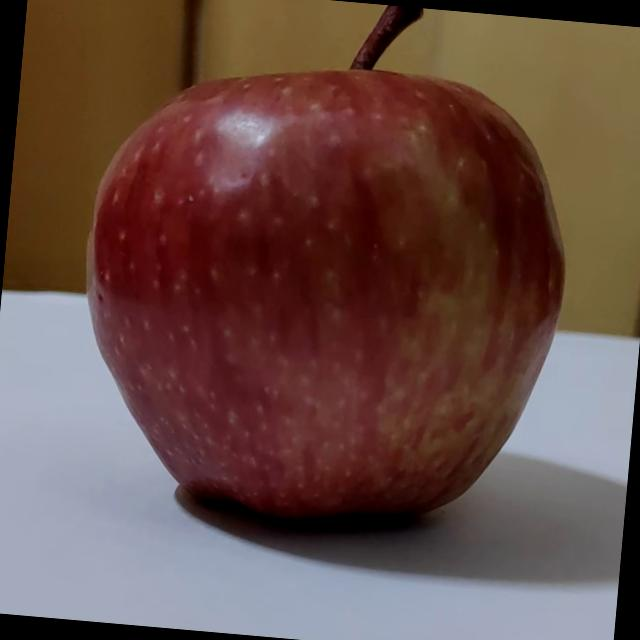apple: (65, 0, 594, 553)
